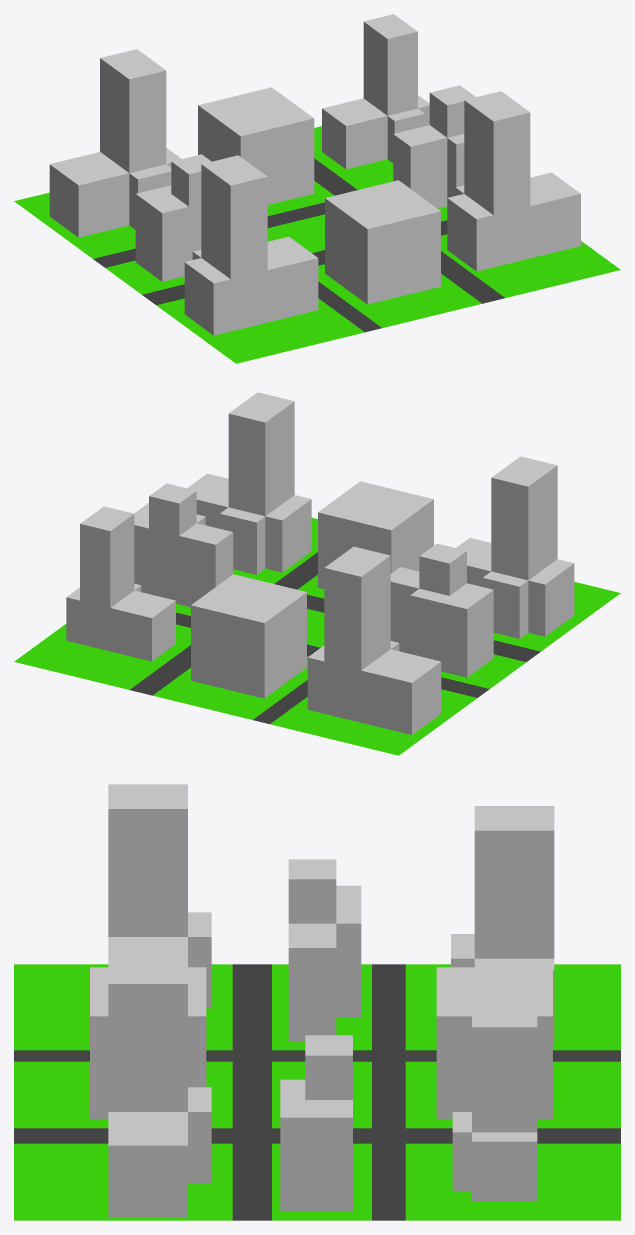
Rendered from Lernraumumgebung_Prototype.glb.
3 views of the same model, one above another, from view 1: azimuth 30°, elevation 25°; view 2: azimuth 150°, elevation 25°; view 3: azimuth 270°, elevation 25° (orthographic). The views are drawn at different scales.
Visible parts, largest first — view 1: Grid, Cube.001, Cube.005, Cube.004, Cube, Cube.002, Cube.003, Cube.007, Cube.006; view 2: Grid, Cube.004, Cube.005, Cube.001, Cube.003, Cube.002, Cube.007, Cube.006, Cube; view 3: Grid, Cube.005, Cube.001, Cube.002, Cube.004, Cube.007, Cube.006, Cube.003, Cube.
Part boxes in pixels (<box>): Grid: <box>14,126,620,363</box>; Cube.001: <box>184,155,318,335</box>; Cube.005: <box>447,91,580,271</box>; Cube.004: <box>49,49,181,237</box>; Cube: <box>325,180,440,304</box>; Cube.002: <box>322,14,429,169</box>; Cube.003: <box>198,87,314,204</box>; Cube.007: <box>135,154,211,281</box>; Cube.006: <box>393,85,475,208</box>; Grid: <box>14,518,620,755</box>; Cube.004: <box>307,546,441,734</box>; Cube.005: <box>187,392,311,574</box>; Cube.001: <box>456,456,574,638</box>; Cube.003: <box>191,574,306,698</box>; Cube.002: <box>66,506,175,661</box>; Cube.007: <box>390,543,493,677</box>; Cube.006: <box>134,483,233,607</box>; Cube: <box>318,481,433,589</box>; Grid: <box>14,964,620,1220</box>; Cube.005: <box>108,959,211,1216</box>; Cube.001: <box>108,784,211,1008</box>; Cube.002: <box>452,1007,537,1200</box>; Cube.004: <box>451,806,554,1041</box>; Cube.007: <box>288,859,361,1041</box>; Cube.006: <box>280,1035,352,1211</box>; Cube.003: <box>436,967,552,1119</box>; Cube: <box>90,967,206,1119</box>.
Size of the model in its own units: 200 by 73.27 by 200.
